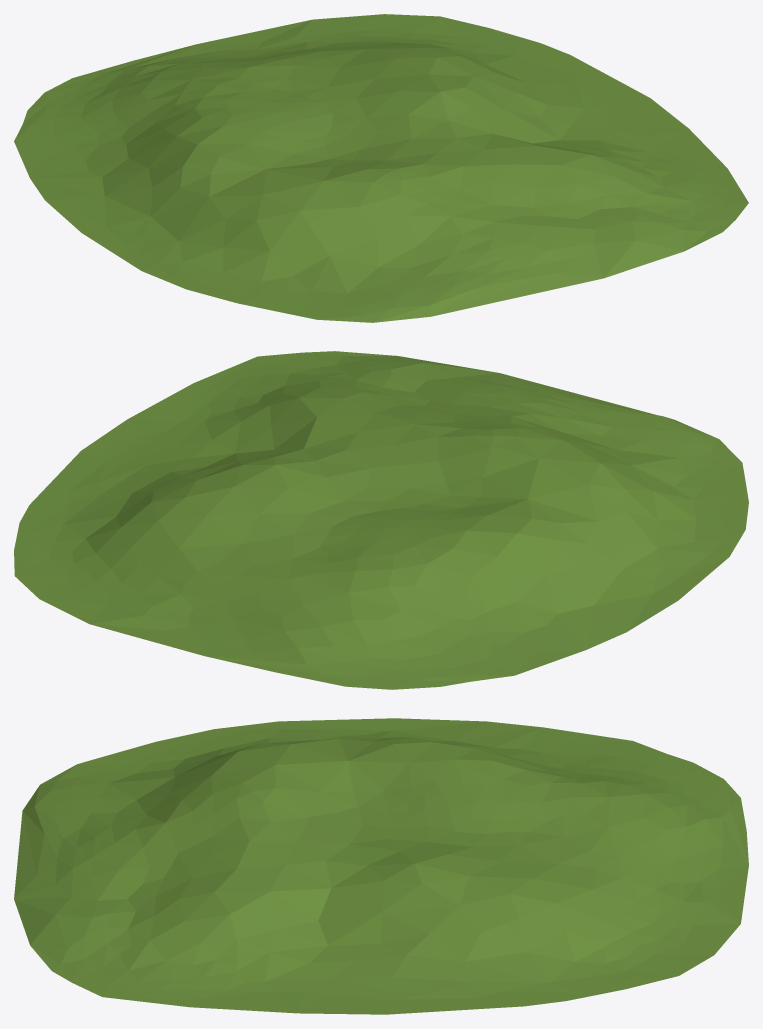
File: Hill_08.fbx
3 views of the same model, one above another, from view 1: azimuth 30°, elevation 25°; view 2: azimuth 150°, elevation 25°; view 3: azimuth 270°, elevation 25° (orthographic). The views are drawn at different scales.
Visible parts, largest first — view 1: Hill_08; view 2: Hill_08; view 3: Hill_08.
Boxes of the visible parts, bbox=[...] form: Hill_08: bbox=[14, 14, 748, 322]; Hill_08: bbox=[14, 351, 748, 689]; Hill_08: bbox=[14, 718, 748, 1014].
Bounding box in the file's own units: 18.87 × 1.55 × 19.77.
